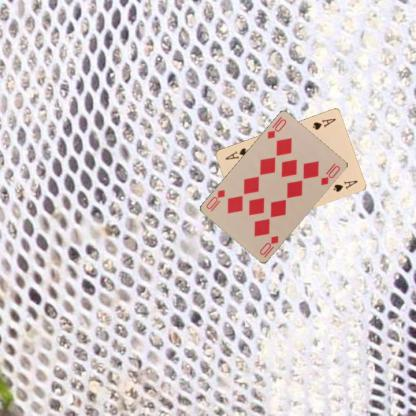10d: (257, 233, 280, 259), (264, 117, 288, 140)
As: (310, 116, 337, 132)
